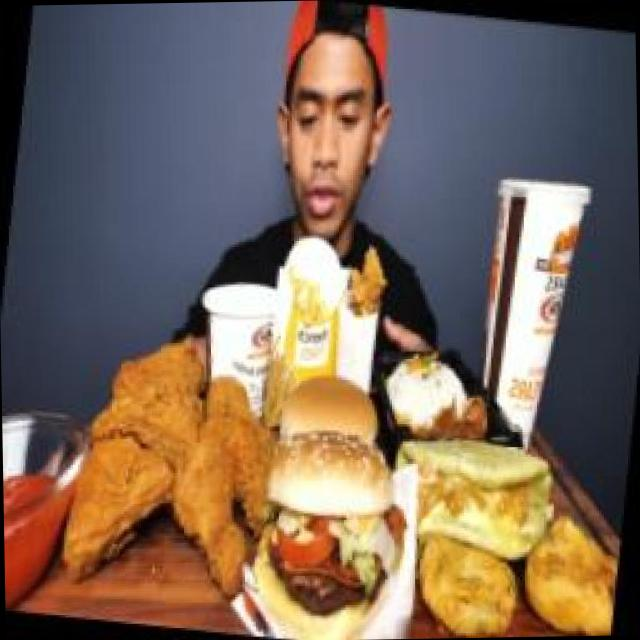AW cola: (454, 156, 604, 442)
black pepper rice bowl: (368, 344, 505, 464)
cheese burger: (262, 361, 392, 471)
chicken waffle: (331, 241, 398, 342)
crispy corn: (182, 273, 284, 415)
french fries: (274, 232, 354, 346)
fried chicken: (57, 326, 290, 590)
mango chicken pocket: (379, 408, 567, 564)
mozza burger: (236, 418, 418, 640)
perkedel: (394, 508, 534, 638), (510, 502, 622, 636)
